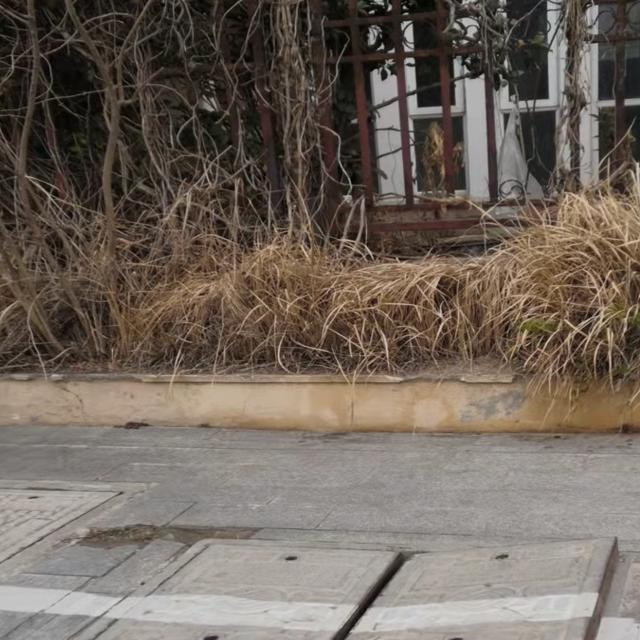good: (0, 475, 127, 579)
uncovered: (56, 532, 640, 640)
